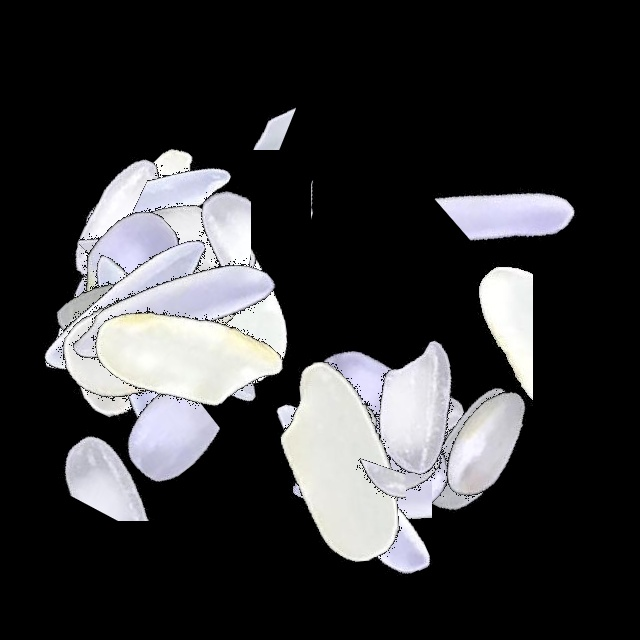Broken: (349, 298, 523, 548), (20, 244, 270, 411), (45, 202, 295, 364), (271, 368, 432, 618), (61, 330, 220, 580), (103, 172, 248, 422), (12, 381, 262, 521), (79, 91, 218, 341), (388, 117, 638, 254), (323, 390, 455, 640), (124, 123, 251, 373), (70, 163, 320, 288), (277, 385, 527, 502), (418, 227, 533, 477), (71, 218, 321, 329), (121, 53, 371, 150), (311, 62, 407, 312), (116, 175, 211, 425), (329, 337, 424, 587), (353, 336, 445, 586), (307, 401, 557, 490), (115, 123, 202, 373), (319, 380, 406, 630), (66, 265, 316, 344)
Full: (269, 297, 519, 547), (17, 121, 267, 371), (206, 324, 456, 574), (16, 133, 266, 383), (88, 163, 338, 413), (8, 191, 258, 441), (0, 134, 250, 384), (21, 170, 271, 420), (53, 134, 303, 384), (0, 99, 250, 349), (72, 221, 322, 471), (348, 326, 598, 576), (236, 266, 486, 516), (265, 351, 515, 601), (361, 316, 611, 566), (27, 213, 277, 463), (0, 139, 250, 389), (6, 221, 256, 471), (0, 187, 250, 437), (224, 362, 474, 612), (0, 183, 250, 433), (25, 205, 275, 455), (47, 190, 297, 440), (291, 286, 541, 536), (212, 335, 462, 585), (58, 230, 308, 480)
